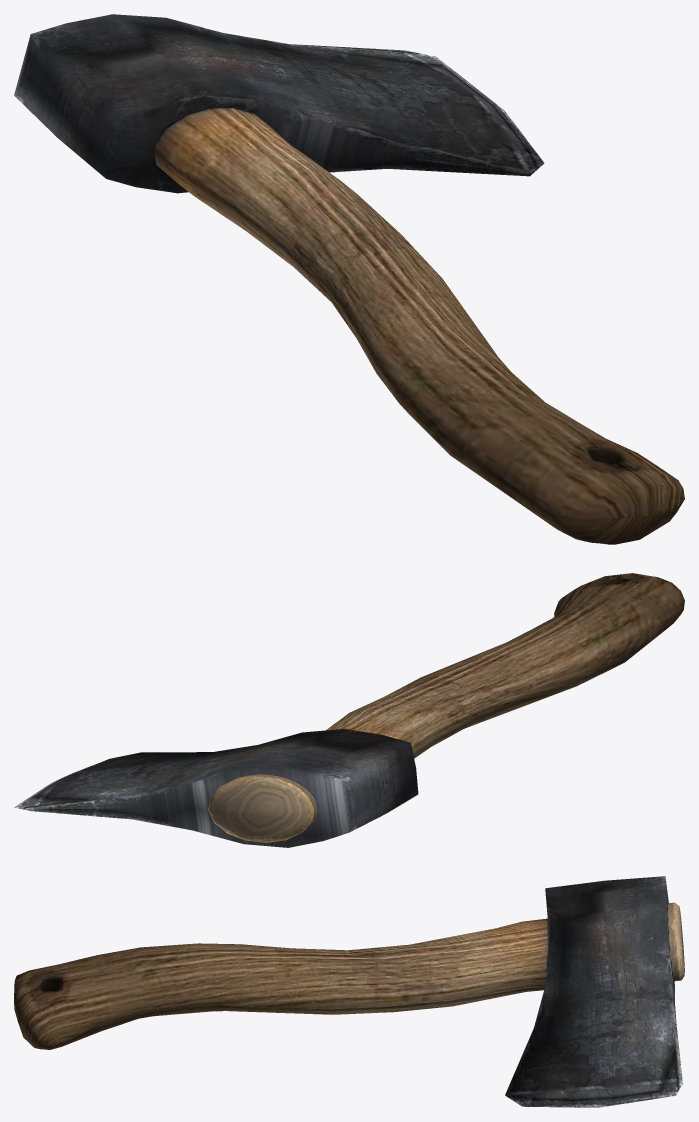
Rendered from hatchet.entity.glb.
The picture shows the model from 3 angles, top to bottom: view 1: azimuth 30°, elevation 25°; view 2: azimuth 150°, elevation 25°; view 3: azimuth 270°, elevation 25°; orthographic projection. The views are drawn at different scales.
Parts seen in each view (by area): view 1: w_hatchet_LOD0; view 2: w_hatchet_LOD0; view 3: w_hatchet_LOD0.
Part boxes in pixels (box(x1,y1,x2,y2)): w_hatchet_LOD0: box(14, 14, 684, 544); w_hatchet_LOD0: box(14, 573, 684, 847); w_hatchet_LOD0: box(14, 876, 684, 1107).
Bounding box in the file's own units: 0.1767 × 0.0726 × 0.3527.
1 material, 1 textured.
